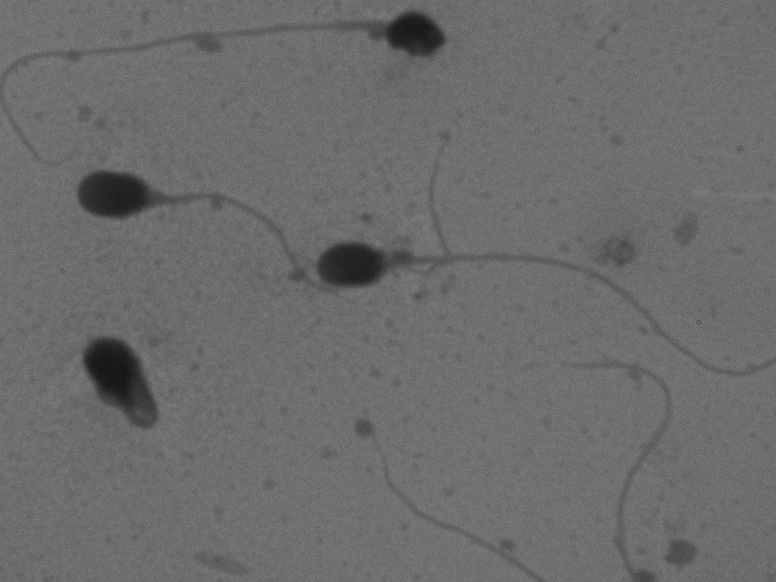Abnormal: (11, 7, 487, 141), (52, 152, 312, 307), (47, 323, 191, 459)
Normal: (298, 226, 771, 408)
